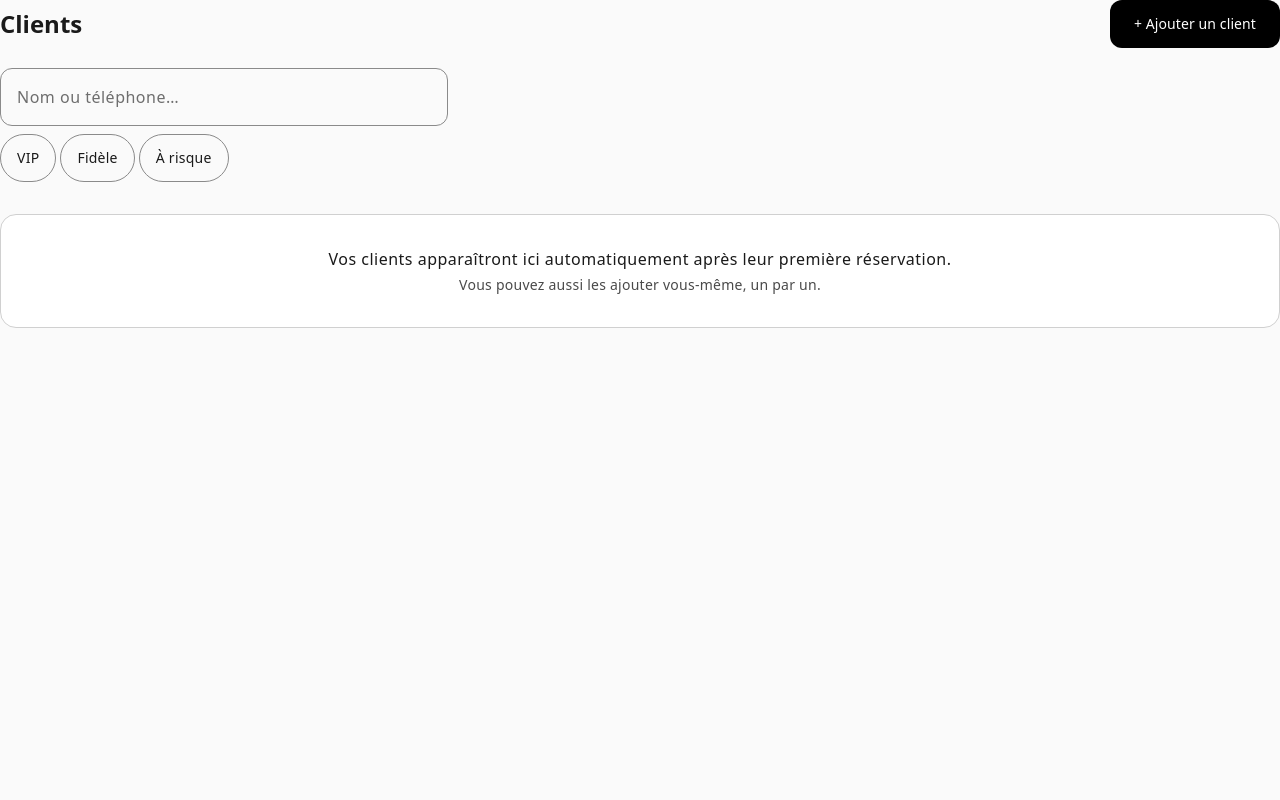
Test: ClientsClient — « Ajouter un client » checks the phone › 7 digits after +225 are refused UNDER the field — nothing is sent
Click the button "+ Ajouter un client" at [1195, 24], box [1110,0,1279,48]
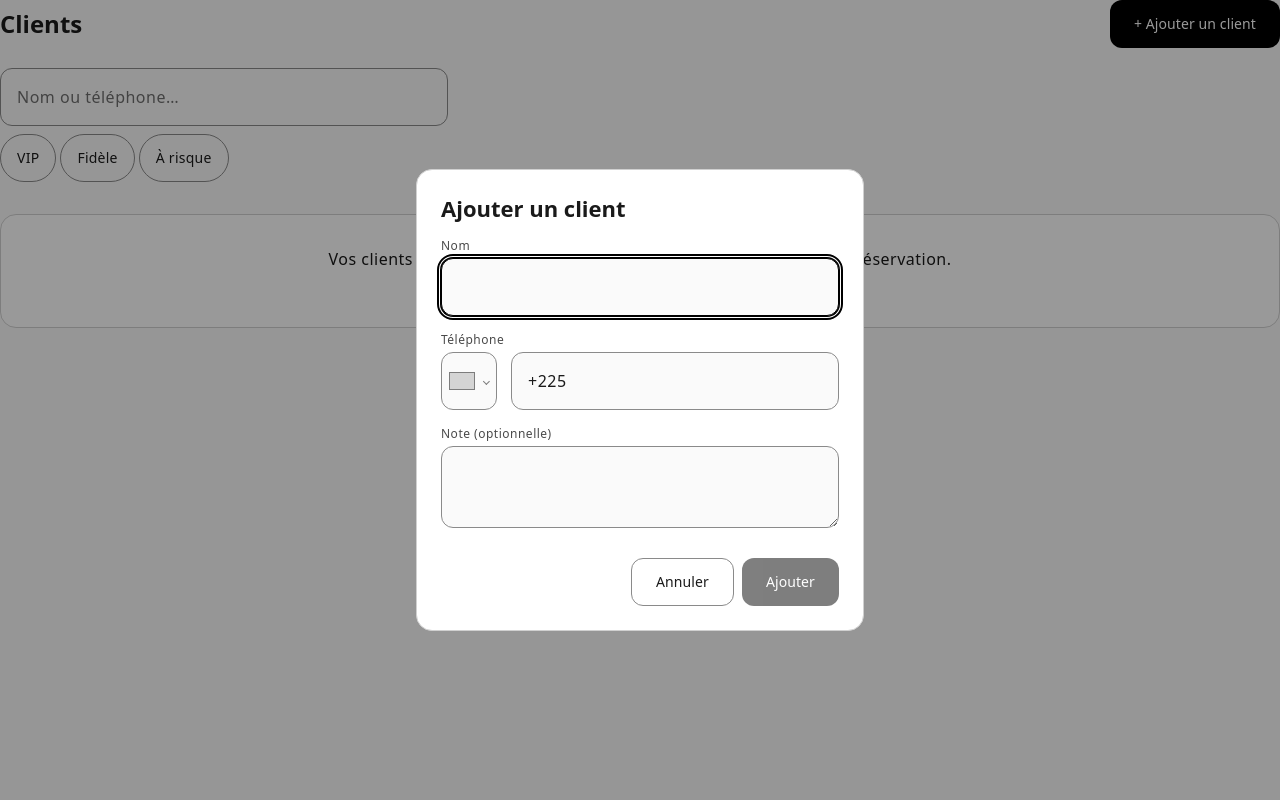
Type "Awa" into the field labelled "Nom" at [640, 287], box [441,258,839,316]
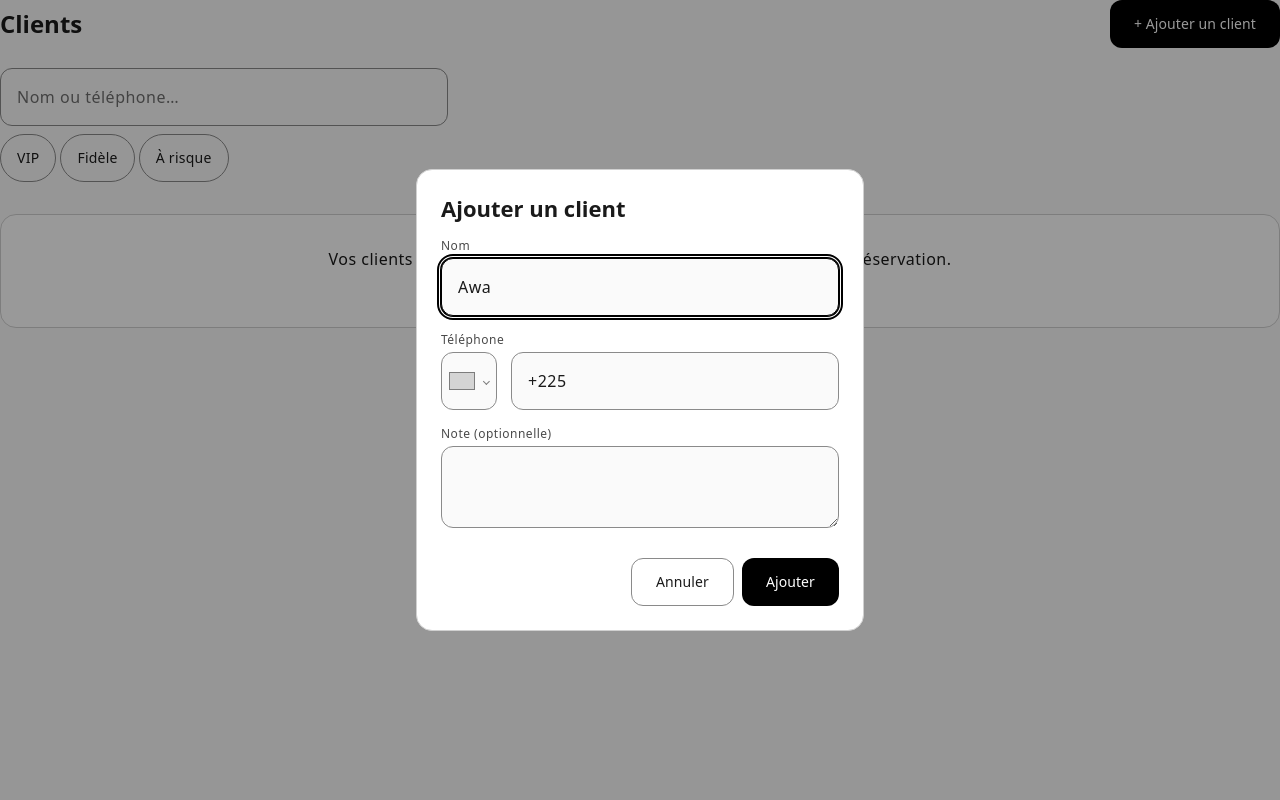
Replace the text in the field labelled "Téléphone" with "+2250700000" at [675, 381], box [511,352,839,410]
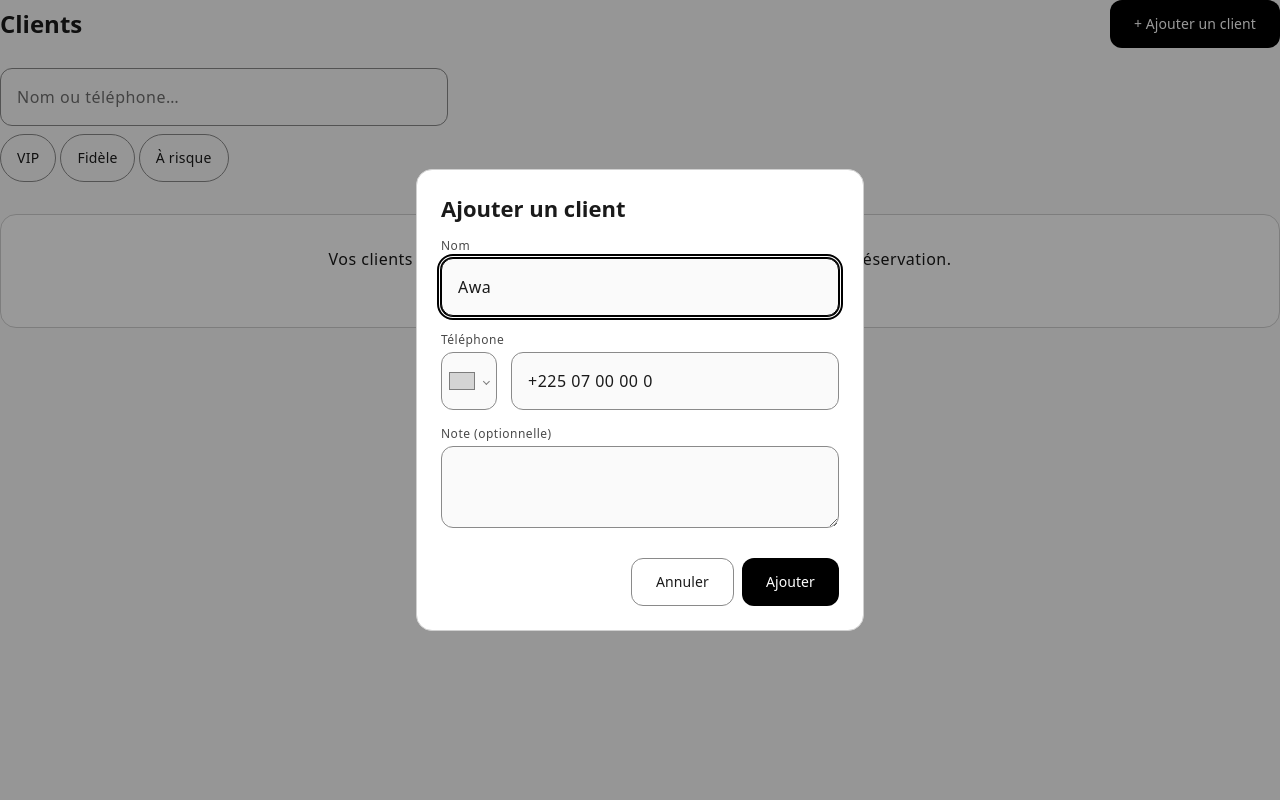
Click the button "Ajouter" at [790, 582], box [742,558,839,606]
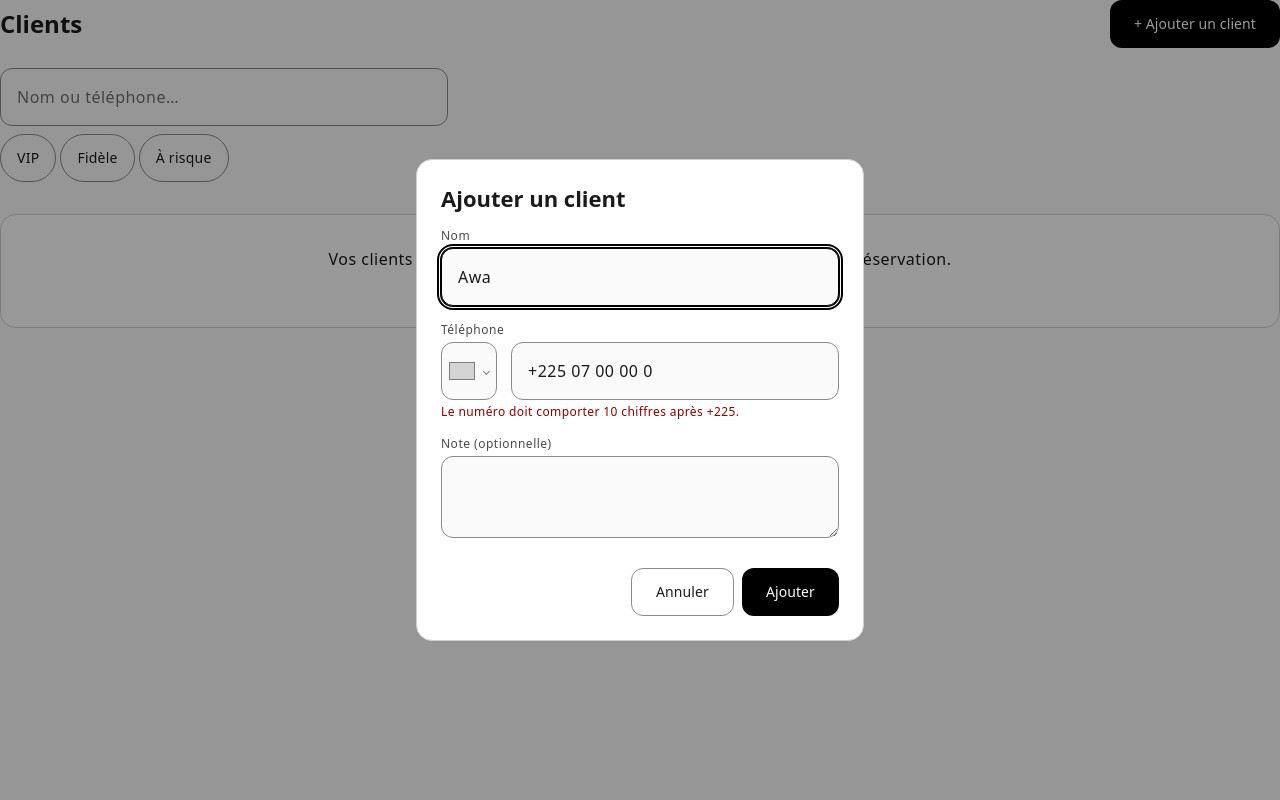
Result: the message reads "Le numéro doit comporter 10 chiffres après +225." at [441,403,739,420]
